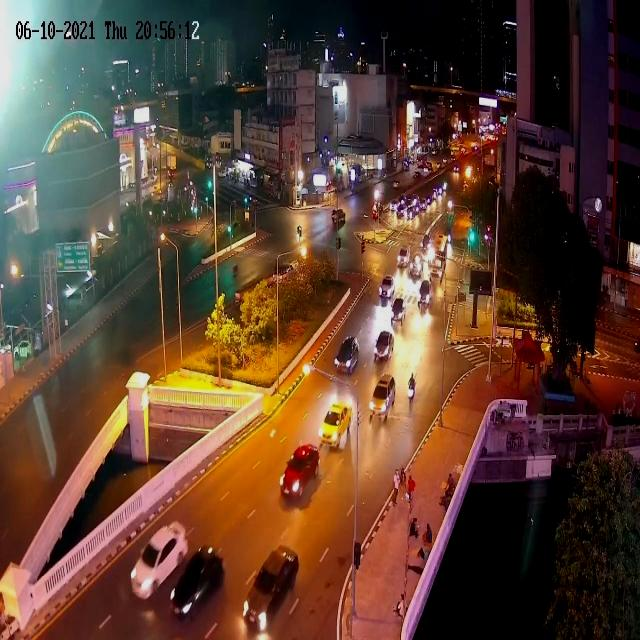Car: (128, 515, 191, 604), (244, 546, 300, 632), (169, 544, 225, 622), (280, 445, 320, 499), (319, 400, 351, 450), (369, 376, 395, 422), (334, 336, 359, 375), (272, 258, 302, 286), (374, 329, 395, 363), (378, 275, 396, 303), (391, 296, 407, 327), (418, 279, 432, 313), (409, 254, 423, 278), (397, 247, 411, 269), (331, 209, 346, 229), (415, 197, 429, 216), (421, 234, 433, 256), (396, 198, 408, 216), (432, 184, 444, 200), (406, 202, 417, 219), (388, 199, 400, 214), (410, 196, 421, 212), (413, 166, 424, 178), (462, 180, 470, 193), (392, 180, 400, 190), (425, 194, 432, 205), (453, 164, 460, 174), (460, 146, 467, 156), (404, 159, 411, 169), (447, 200, 453, 211), (472, 144, 479, 153), (442, 157, 448, 166), (443, 182, 447, 191)
Cycle: (406, 371, 416, 415)
